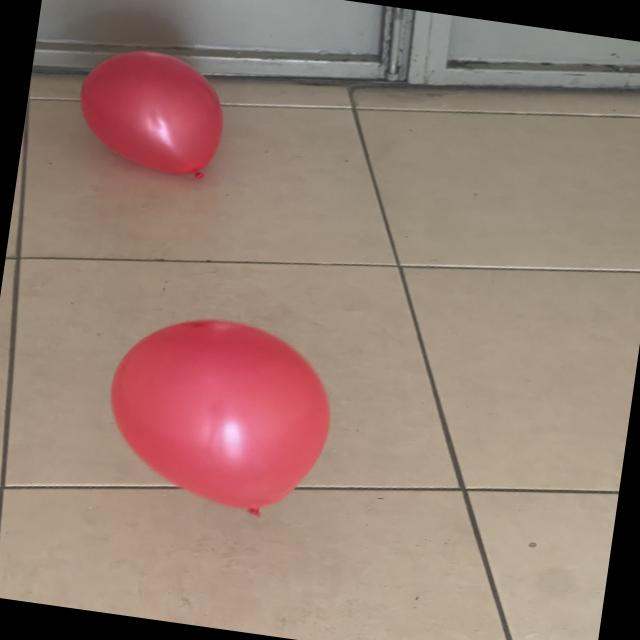balloon: (111, 320, 330, 515), (80, 51, 223, 174)
